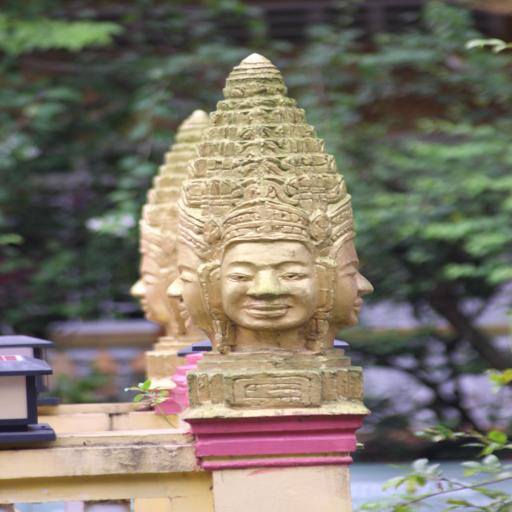than: (151, 54, 387, 402)
